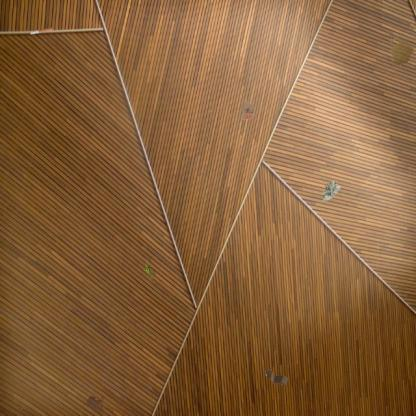dirty: (263, 368, 291, 388), (320, 179, 342, 203), (240, 100, 256, 122), (30, 26, 54, 36), (142, 260, 153, 281)
liquid: (388, 36, 415, 67), (86, 395, 104, 415)
